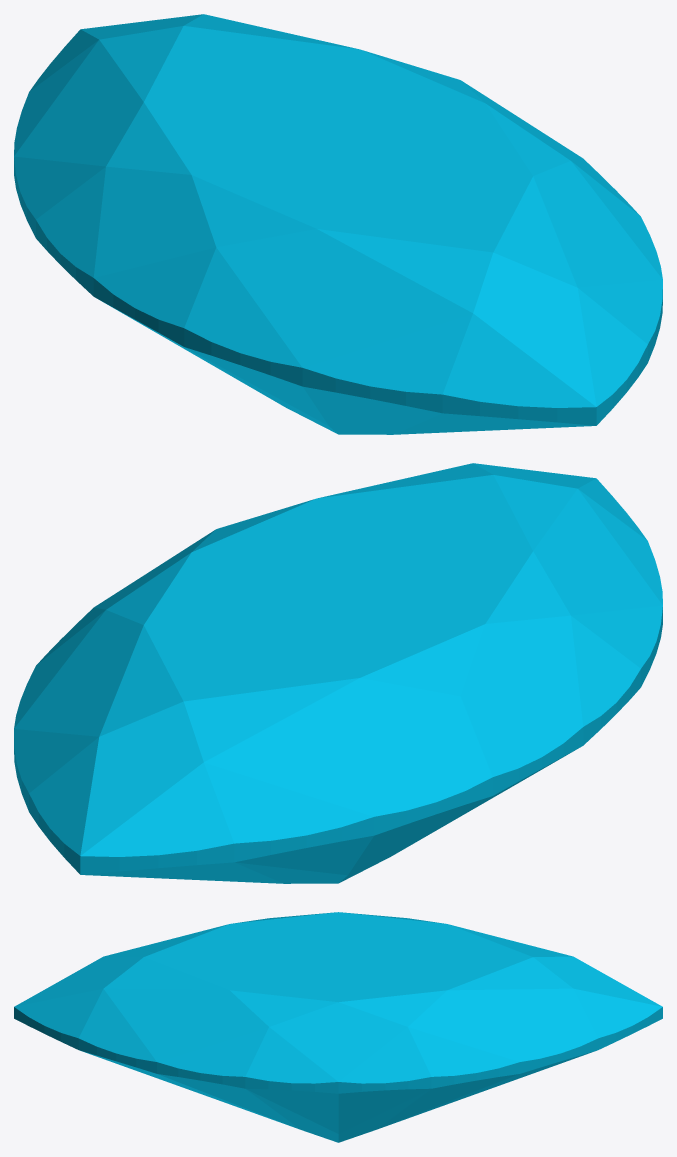
The model's file is Head_Hidden Halo_Marquise_1.5ct_Diamond.glb.
3 views of the same model, one above another, from view 1: azimuth 30°, elevation 25°; view 2: azimuth 150°, elevation 25°; view 3: azimuth 270°, elevation 25° (orthographic). The views are drawn at different scales.
Size of the model in its own units: 0.00595 by 0.00343 by 0.0109.
